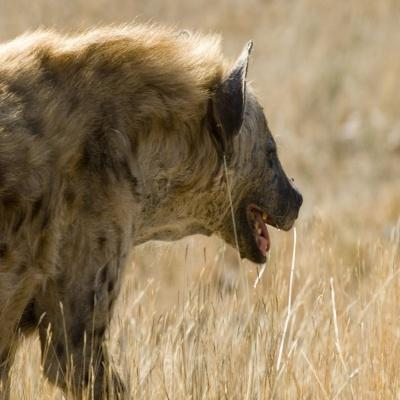hyenas: (2, 12, 311, 400)
